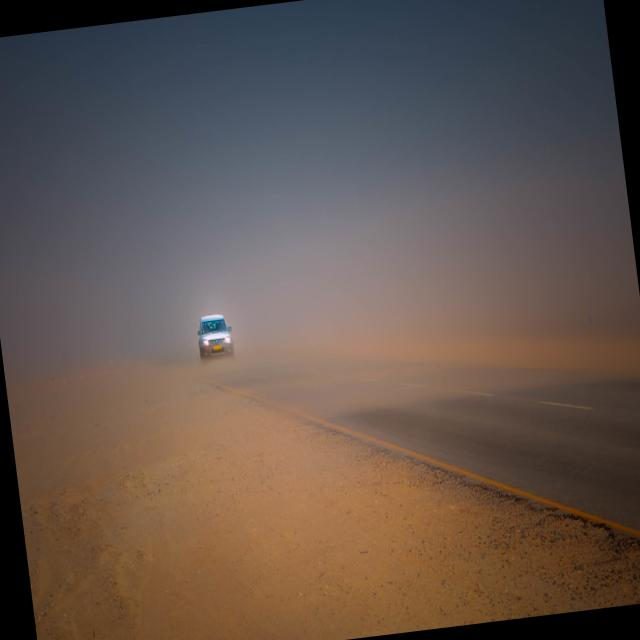car: (195, 312, 236, 359)
